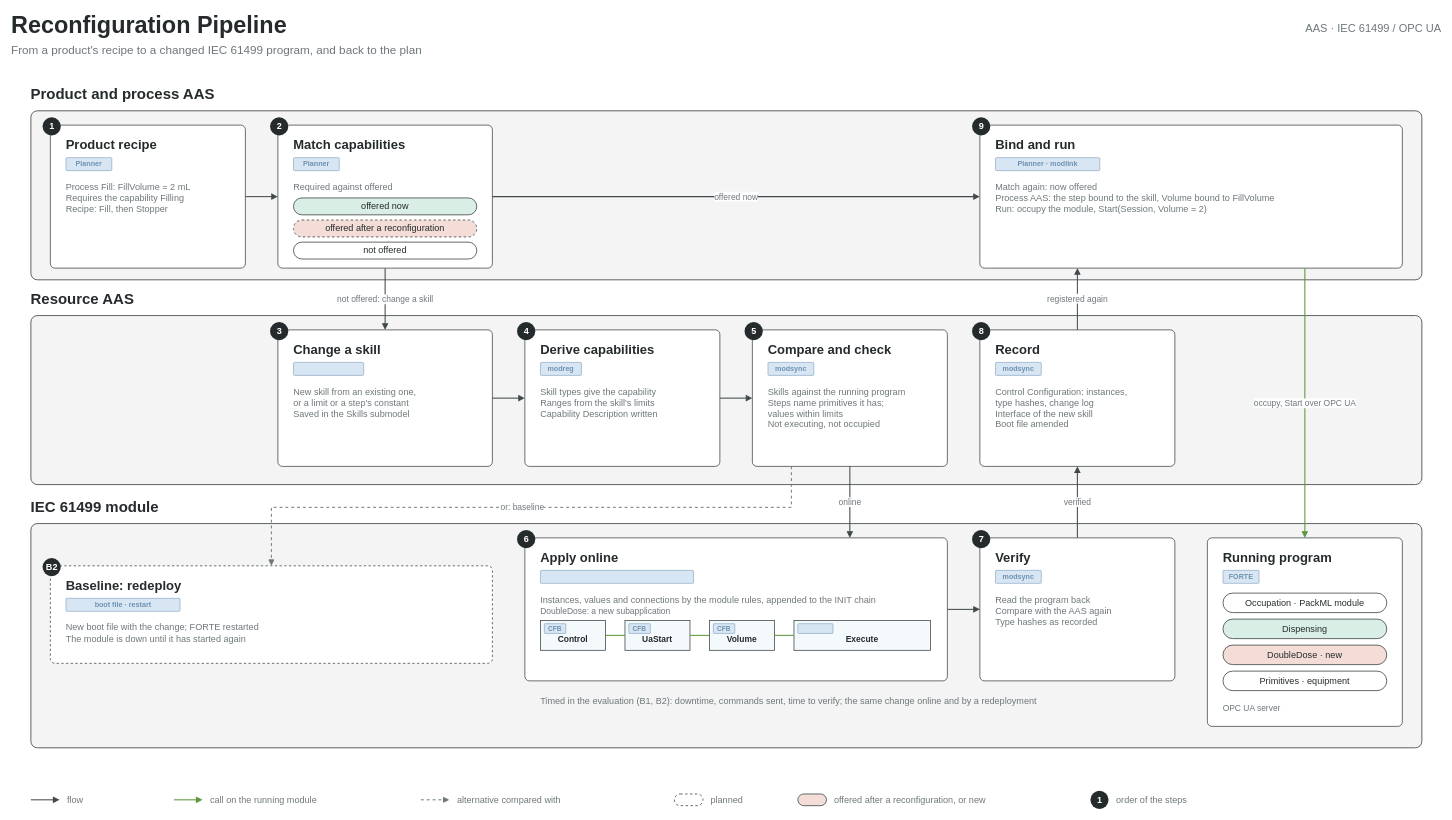
Image size: 1452x820. Some labels were removed from this diagram. The shapes that lost their labels are listed below. From the top down, each one's centre as x and y in pixels, then its label:
At pixel 328 368: "Skill editor".
At pixel 616 576: "FORTE · management protocol".
At pixel 815 628: "SubApp".
